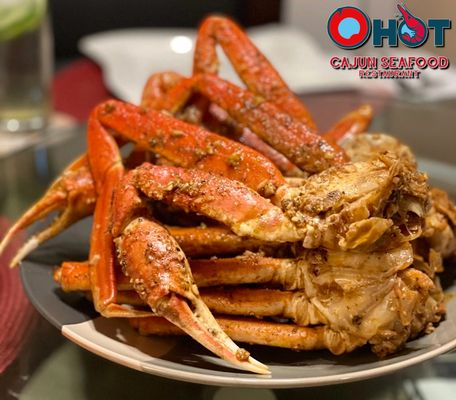pizza: (0, 1, 56, 135)
soup: (62, 91, 454, 363)
